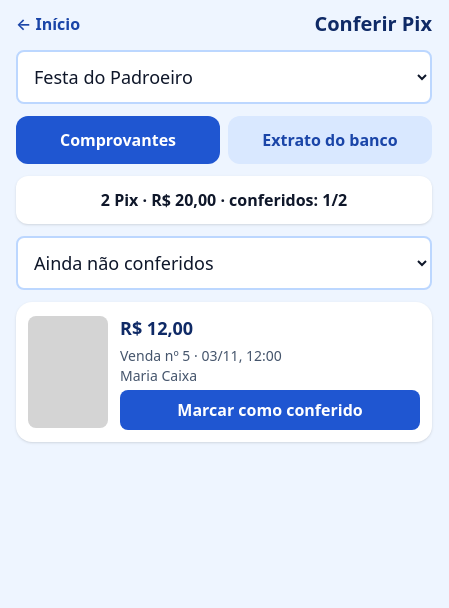
Scenario: conferir Pix (Conselho) › por padrão só os pendentes; a venda do próprio usuário não oferece conferir
Select "Todos" in the dropdown named "Filtro". click: (224, 263)
box: [16,236,432,290]
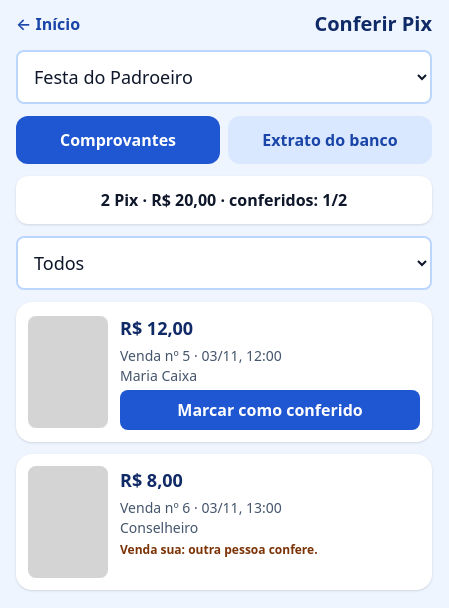
Check: the text "Venda sua: outra pessoa confere." is shown, box [120,541,318,558]
